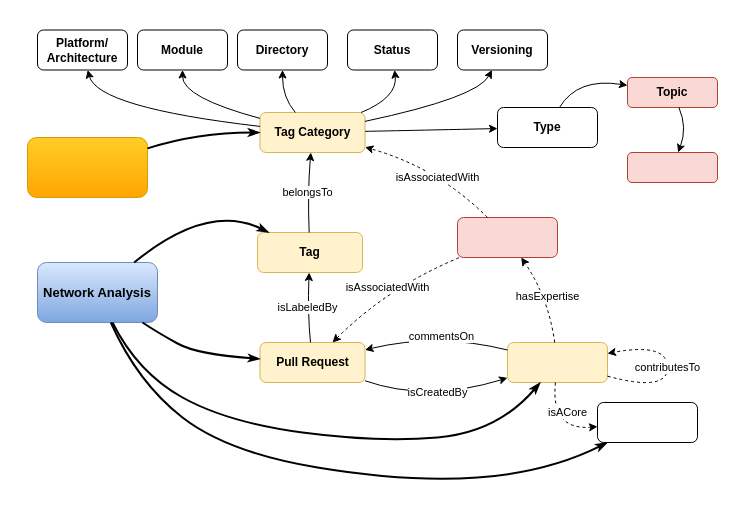
The diagram is 745 pixels wide and 515 high, and some of its shapes have lost their labels. The shapes that lost their labels are listed below. From the top down, each one's centre as x and y in pixels, then its label:
At [87,167]: "Domain Knowledge".
At [672,167]: "SpecificTopic".
At [507,237]: "Expertise".
At [557,362]: "Developer".
At [647,422]: "Core".
